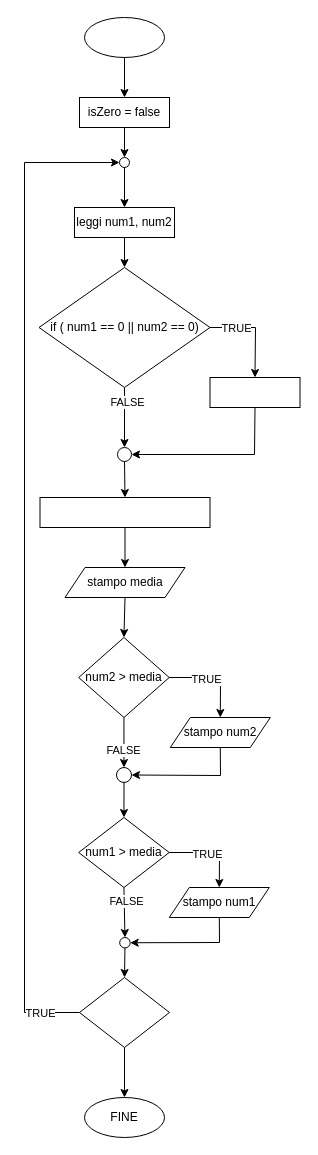
Image size: 318x1155. Some labels were removed from this diagram. The shapes that lost their labels are listed below. From the top down, each one's centre as x and y in pixels, then its label:
the point at 124,37: INIZIO
the point at 254,392: isZero = true
the point at 124,512: media = (float)(num1+num2)/2
the point at 124,1012: while (!isZero)
